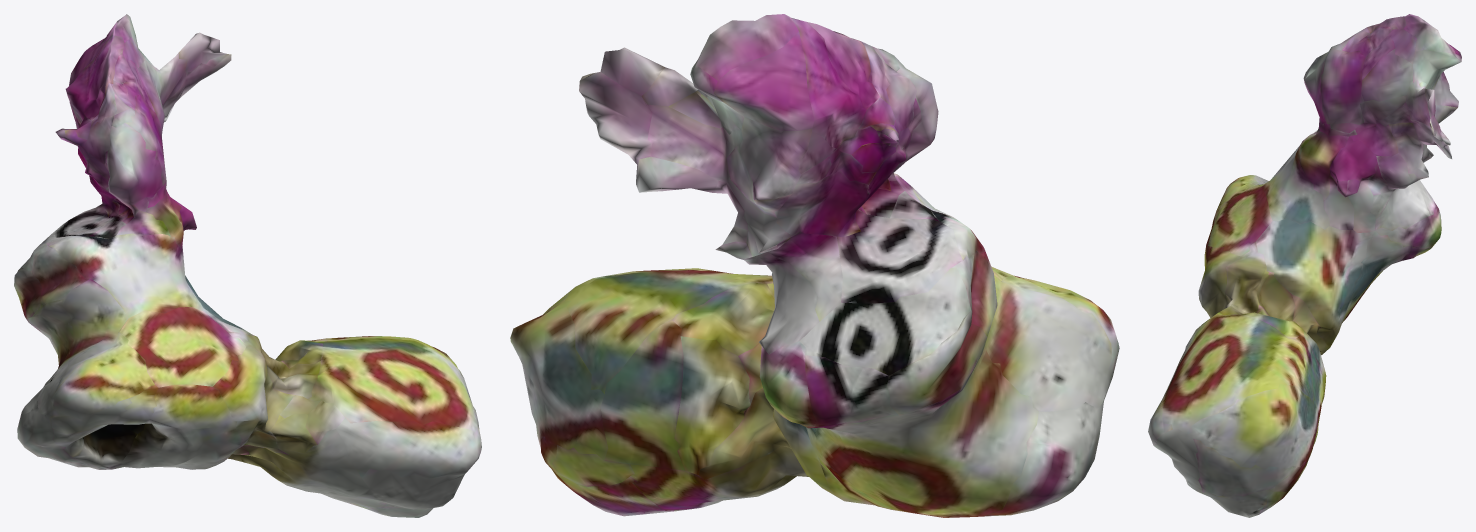
The model's file is hall.glb.
3 views of the same model, side by side, from view 1: azimuth 30°, elevation 25°; view 2: azimuth 150°, elevation 25°; view 3: azimuth 270°, elevation 25° (orthographic). The views are drawn at different scales.
Size of the model in its own units: 0.6347 by 0.6745 by 0.4652.
1 material, 1 textured.
